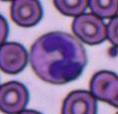N: (30, 32, 87, 83)
